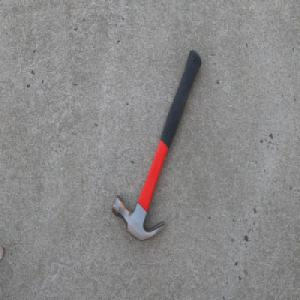Hammer: (110, 48, 202, 242)
